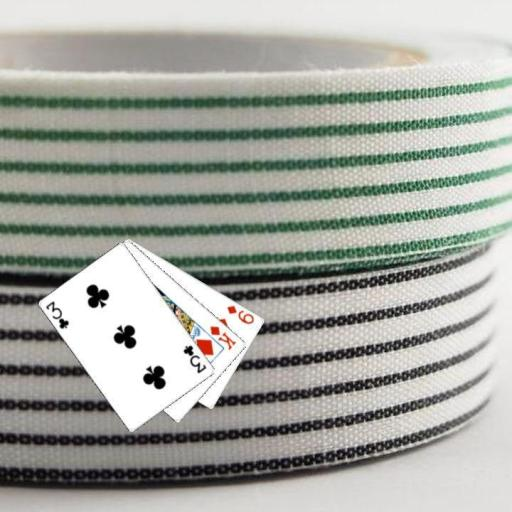card-corner: (180, 342, 208, 375), (43, 298, 71, 331), (207, 322, 237, 351), (224, 302, 256, 326)
